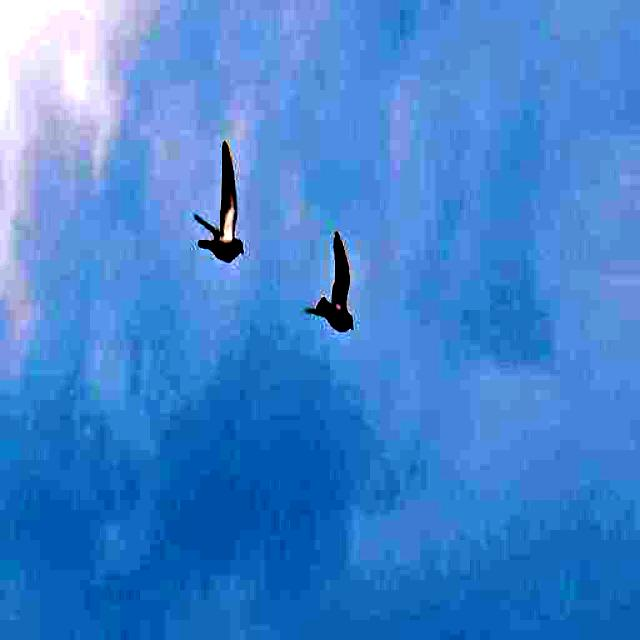airplane: (299, 220, 366, 370), (192, 139, 256, 274)
